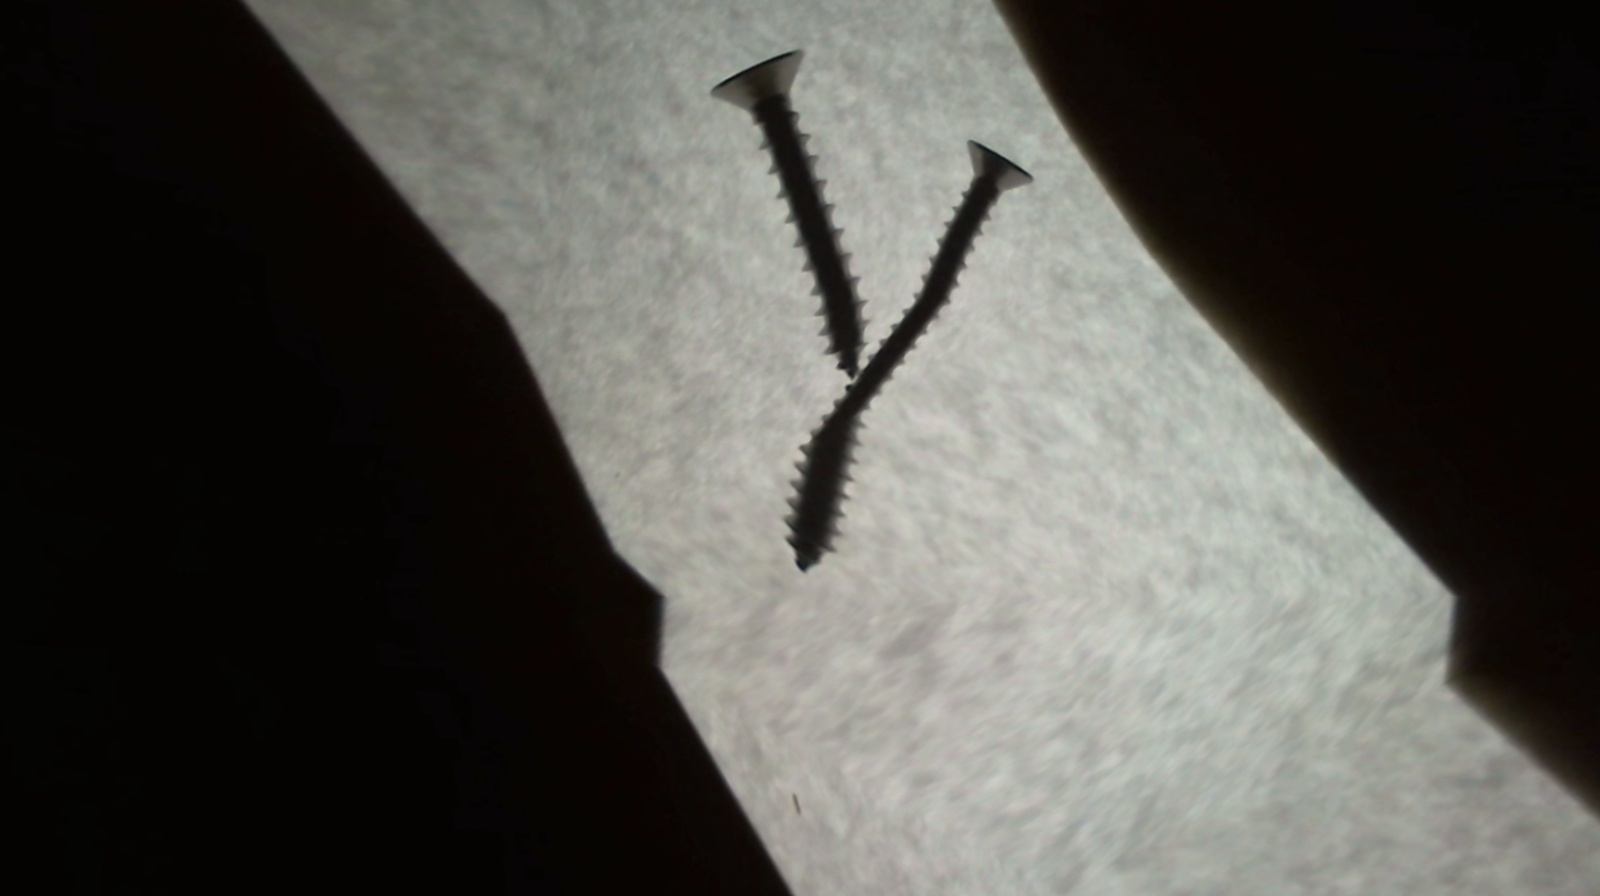S001: (689, 47, 862, 408)
S002: (788, 136, 1129, 580)
